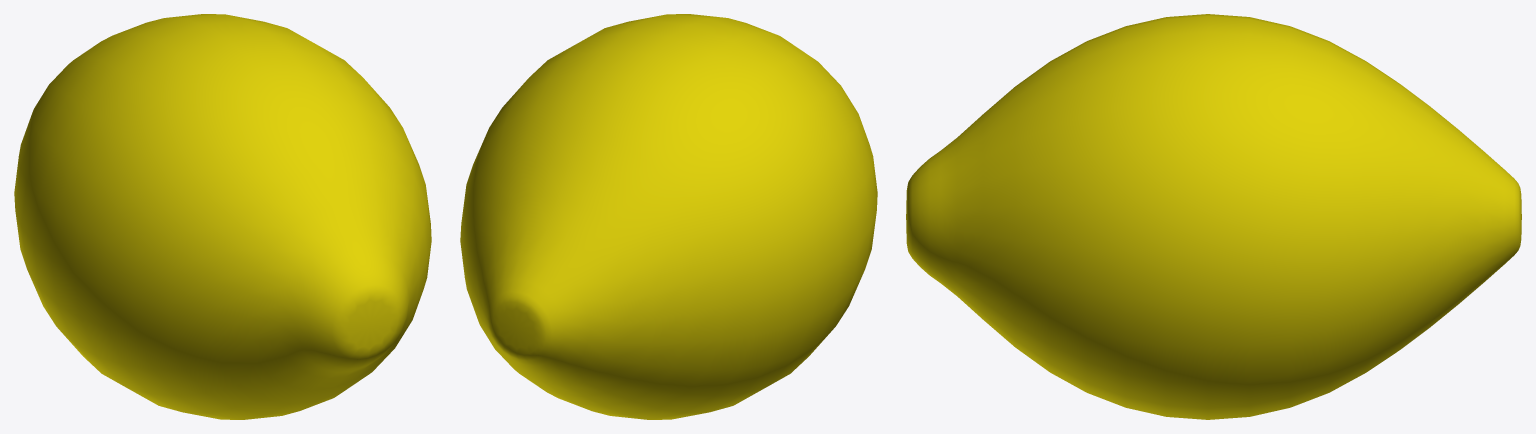
File: Lemon.fbx
3 views of the same model, side by side, from view 1: azimuth 30°, elevation 25°; view 2: azimuth 150°, elevation 25°; view 3: azimuth 270°, elevation 25° (orthographic). The views are drawn at different scales.
Parts seen in each view (by area): view 1: Lemon; view 2: Lemon; view 3: Lemon.
Part boxes in pixels (x1=…): Lemon: x1=14, y1=14, x2=431, y2=419; Lemon: x1=460, y1=14, x2=877, y2=419; Lemon: x1=906, y1=14, x2=1521, y2=419.
Size of the model in its own units: 187 by 187 by 283.
